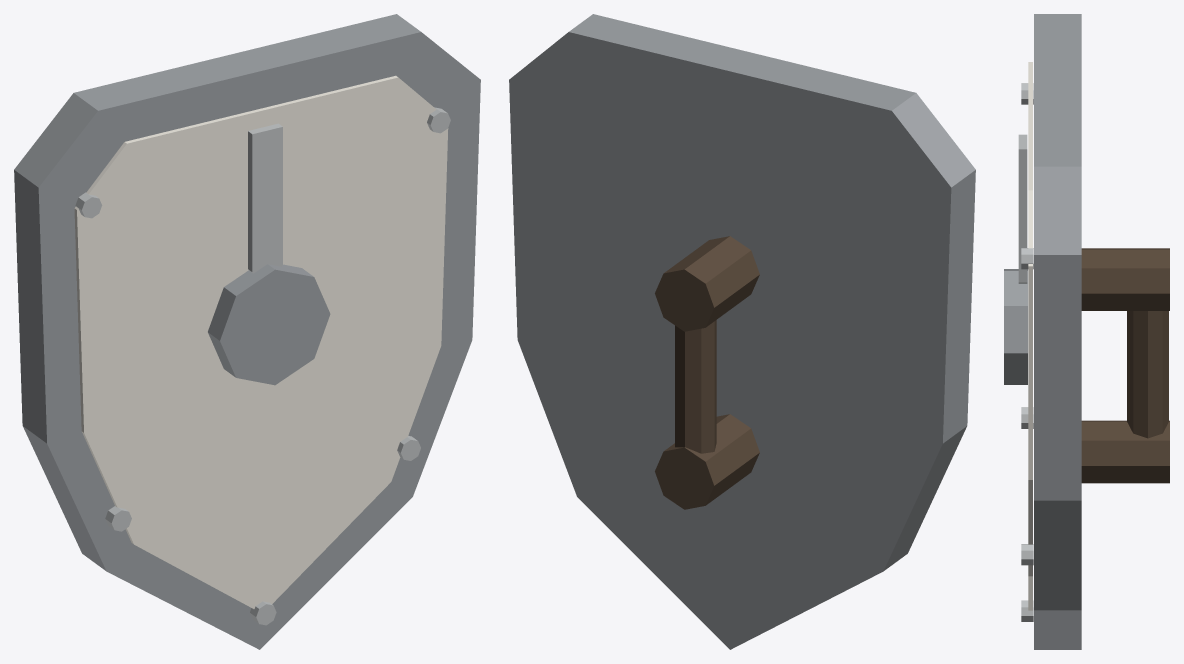
Rendered from shield.glb.
The picture shows the model from 3 angles, left to right: view 1: azimuth 30°, elevation 25°; view 2: azimuth 150°, elevation 25°; view 3: azimuth 270°, elevation 25°; orthographic projection. The views are drawn at different scales.
Parts seen in each view (by area): view 1: Shield; view 2: Shield; view 3: Shield.
Part boxes in pixels (left/top/right/bottom): Shield: left=14, top=14, right=480, bottom=649; Shield: left=509, top=14, right=975, bottom=649; Shield: left=1004, top=14, right=1169, bottom=649.
Size of the model in its own units: 0.52 by 0.65 by 0.1745.
